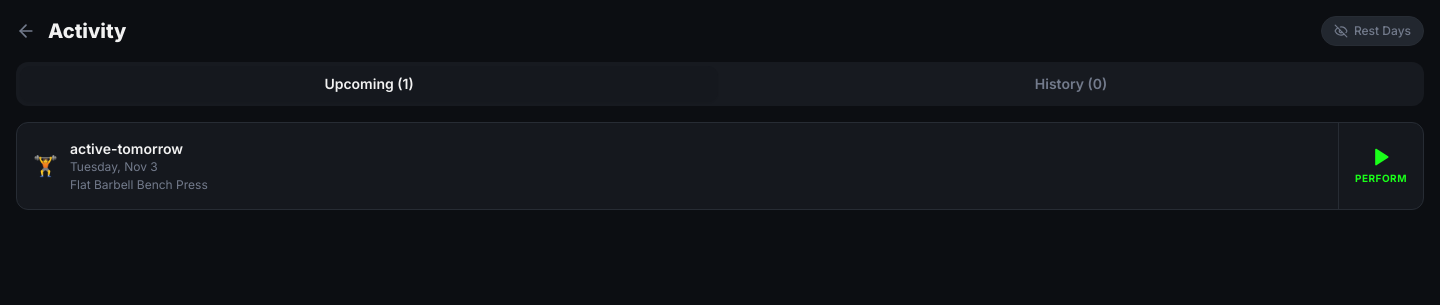
Scenario: Activity's Upcoming list › still offers the Rest Days toggle for the active program’s rest days
The width and height of the screenshot is (1440, 305).
Click the button "Rest Days".
click(1372, 31)  # box [1321, 16, 1424, 46]
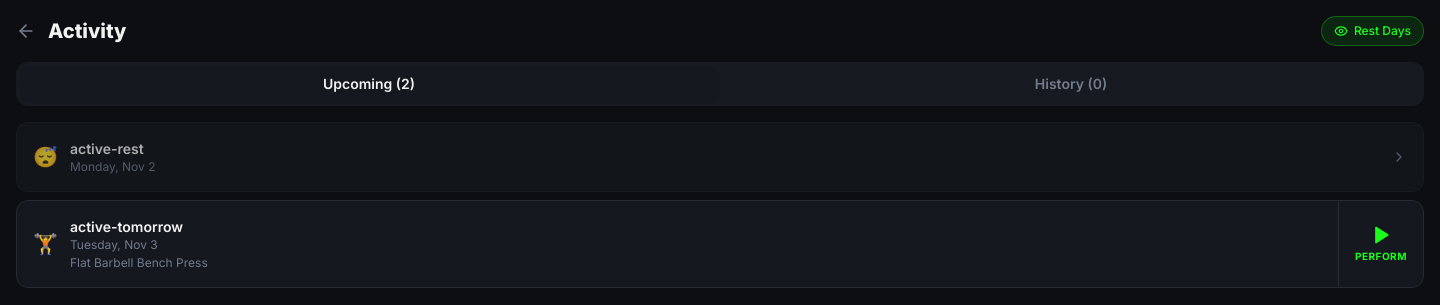
Expected: the text "active-rest" is shown, [70, 139, 144, 159]
